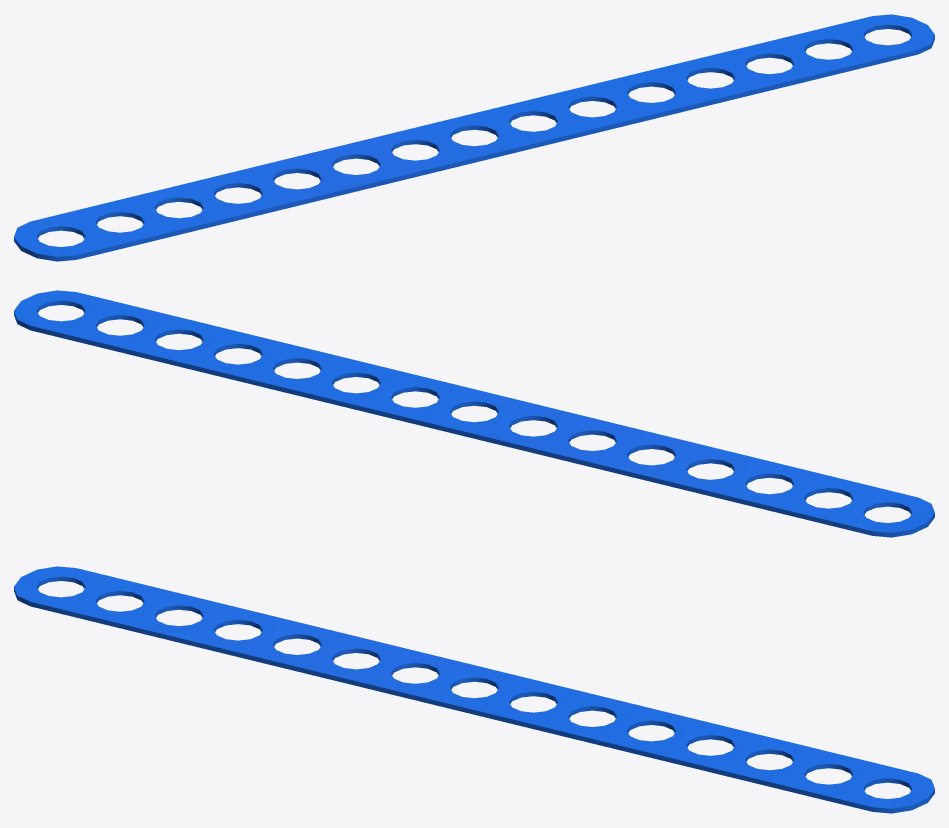
The model's file is FifteenLongBlue.fbx.
3 renders of one model, top to bottom at view 1: azimuth 30°, elevation 25°; view 2: azimuth 150°, elevation 25°; view 3: azimuth 330°, elevation 25°, orthographic.
Visible parts, largest first — view 1: Blue15; view 2: Blue15; view 3: Blue15.
Part boxes in pixels (<box>): Blue15: <box>14,14,934,261</box>; Blue15: <box>14,290,934,537</box>; Blue15: <box>14,566,934,813</box>.
Size of the model in its own units: 39.25 by 0.1942 by 3.45.
